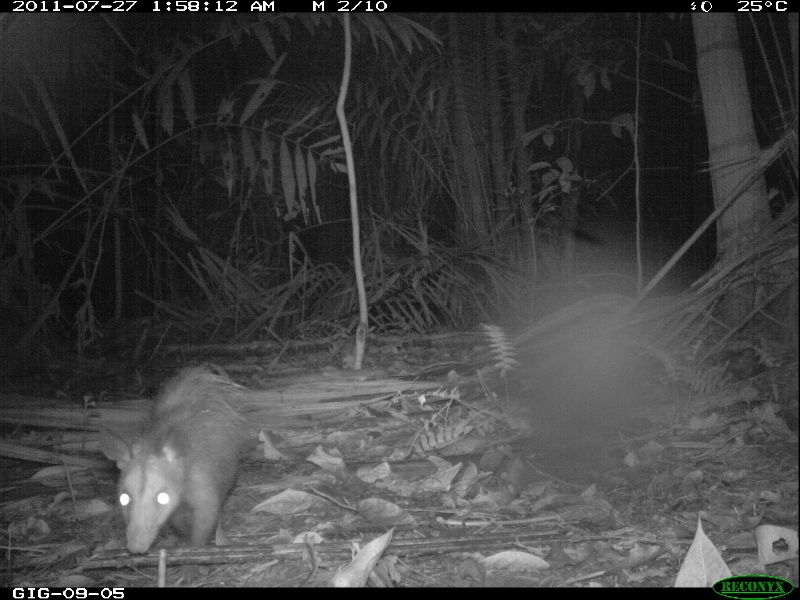opossum: (100, 363, 315, 568)
